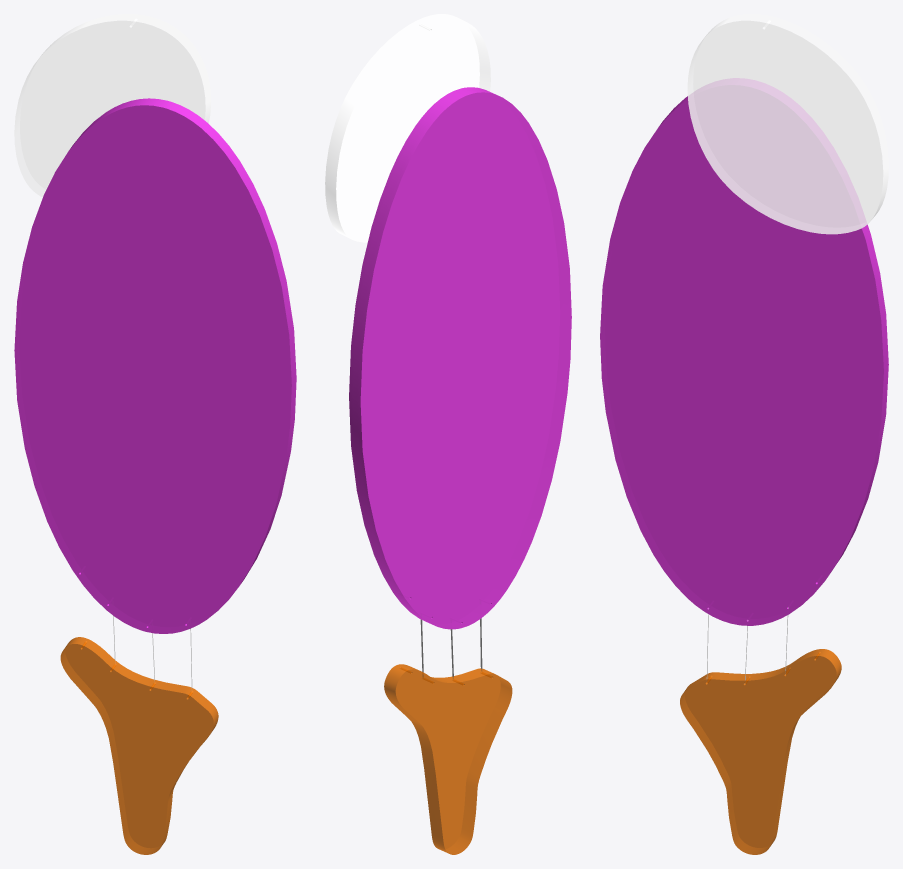
3 renders of one model, left to right at view 1: azimuth 90°, elevation 25°; view 2: azimuth 150°, elevation 25°; view 3: azimuth 270°, elevation 25°, orthographic. The views are drawn at different scales.
Visible parts, largest first — view 1: VIOLETMIRROR, ICEDWHITE, ORANGE; view 2: VIOLETMIRROR, ICEDWHITE, ORANGE; view 3: VIOLETMIRROR, ICEDWHITE, ORANGE.
Boxes of the visible parts, bbox=[...] form: VIOLETMIRROR: bbox=[14, 98, 296, 633]; ICEDWHITE: bbox=[14, 14, 211, 197]; ORANGE: bbox=[60, 637, 218, 854]; VIOLETMIRROR: bbox=[349, 87, 571, 629]; ICEDWHITE: bbox=[325, 14, 490, 242]; ORANGE: bbox=[384, 664, 512, 854]; VIOLETMIRROR: bbox=[600, 78, 888, 625]; ICEDWHITE: bbox=[687, 14, 888, 234]; ORANGE: bbox=[680, 649, 841, 854].
Bounding box in the file's own units: 5.87 × 42.32 × 13.15.
